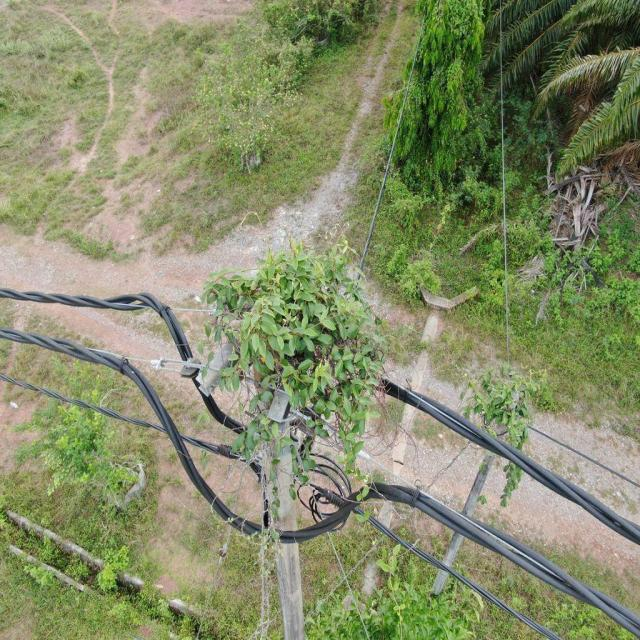critical vegetation: (196, 226, 402, 624), (454, 355, 540, 511)
